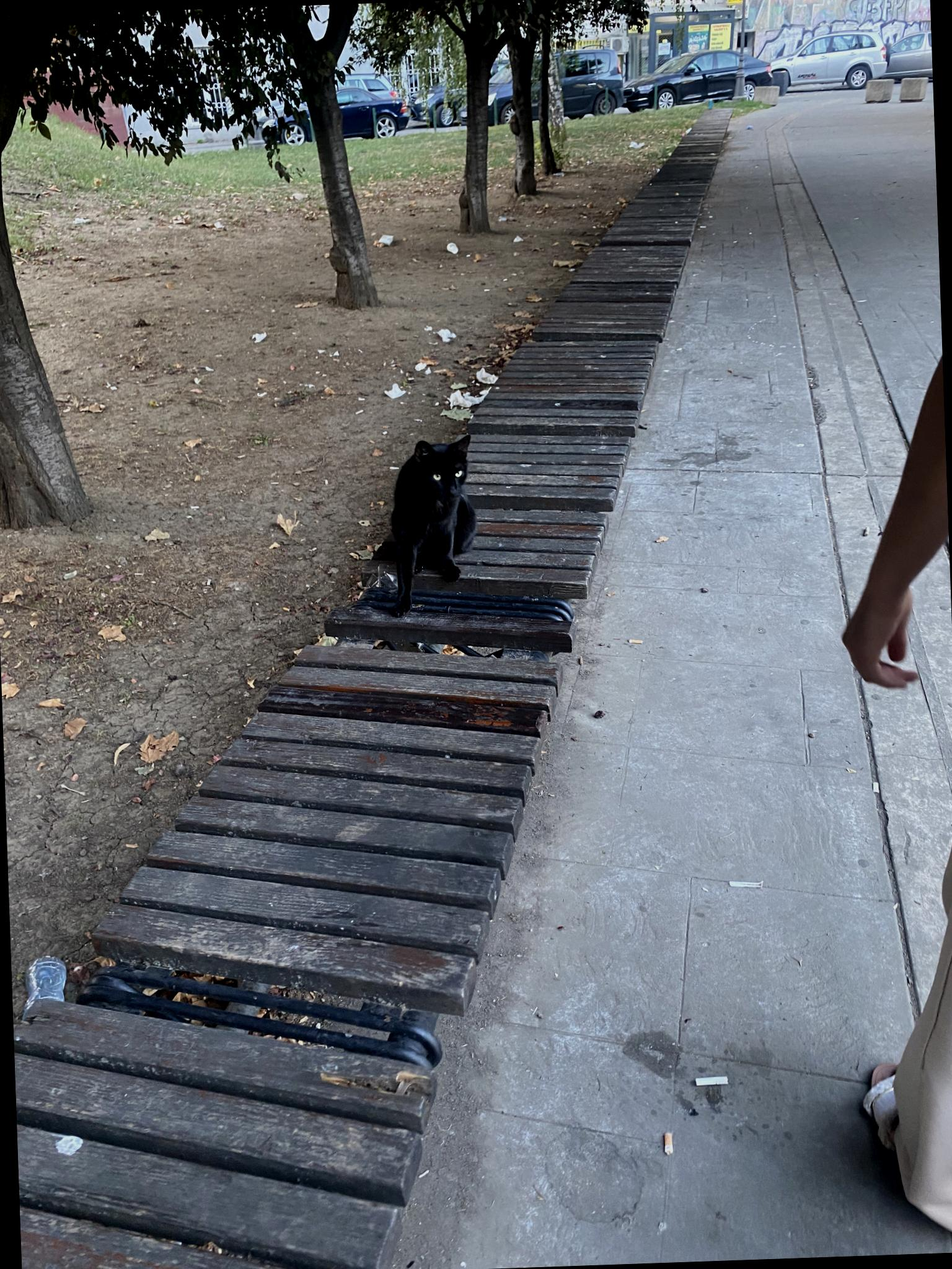macka: (387, 432, 480, 617)
